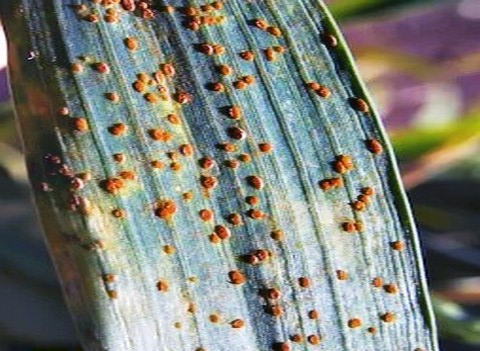Leaf Rust: (64, 24, 424, 308)
